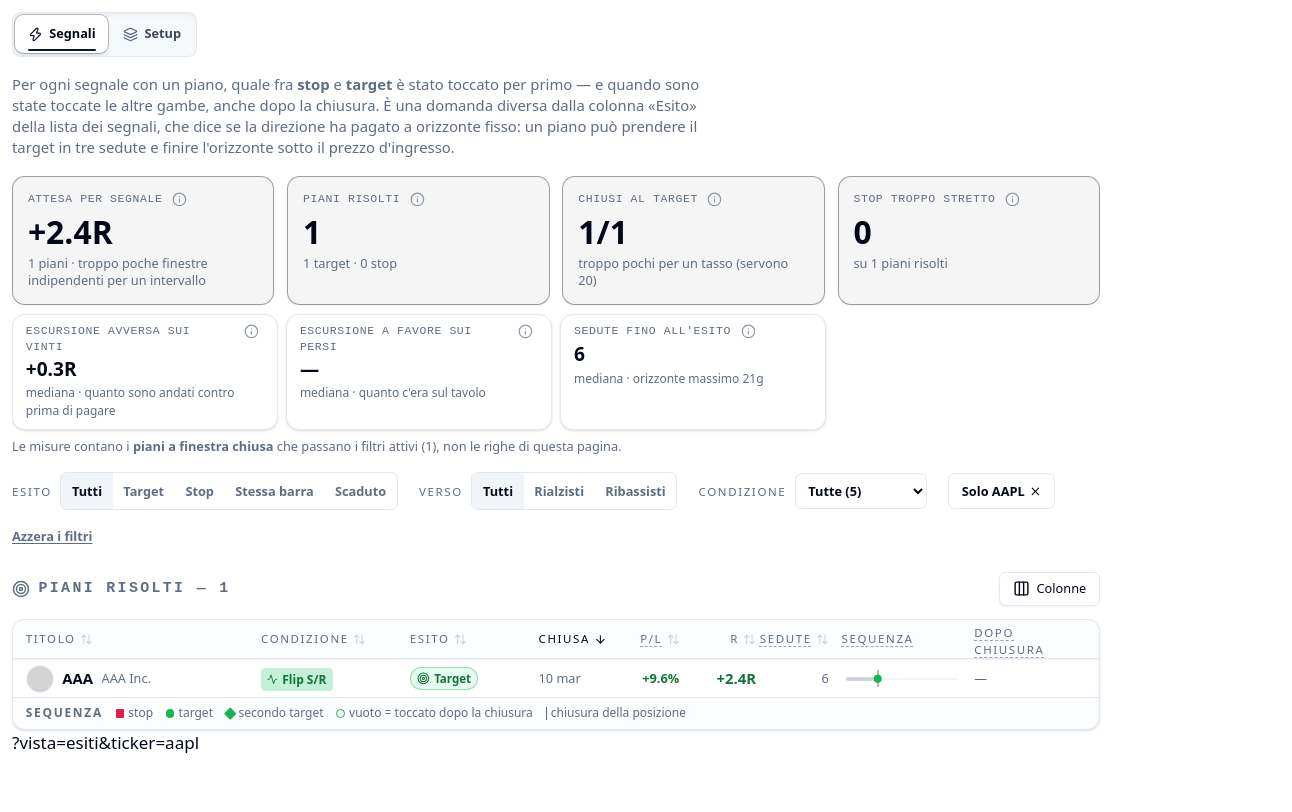
Test: OutcomesView — i controlli › ?ticker= si vede e si toglie
Click the button "Solo AAPL". click: (1002, 491)
box: [948,473,1055,509]
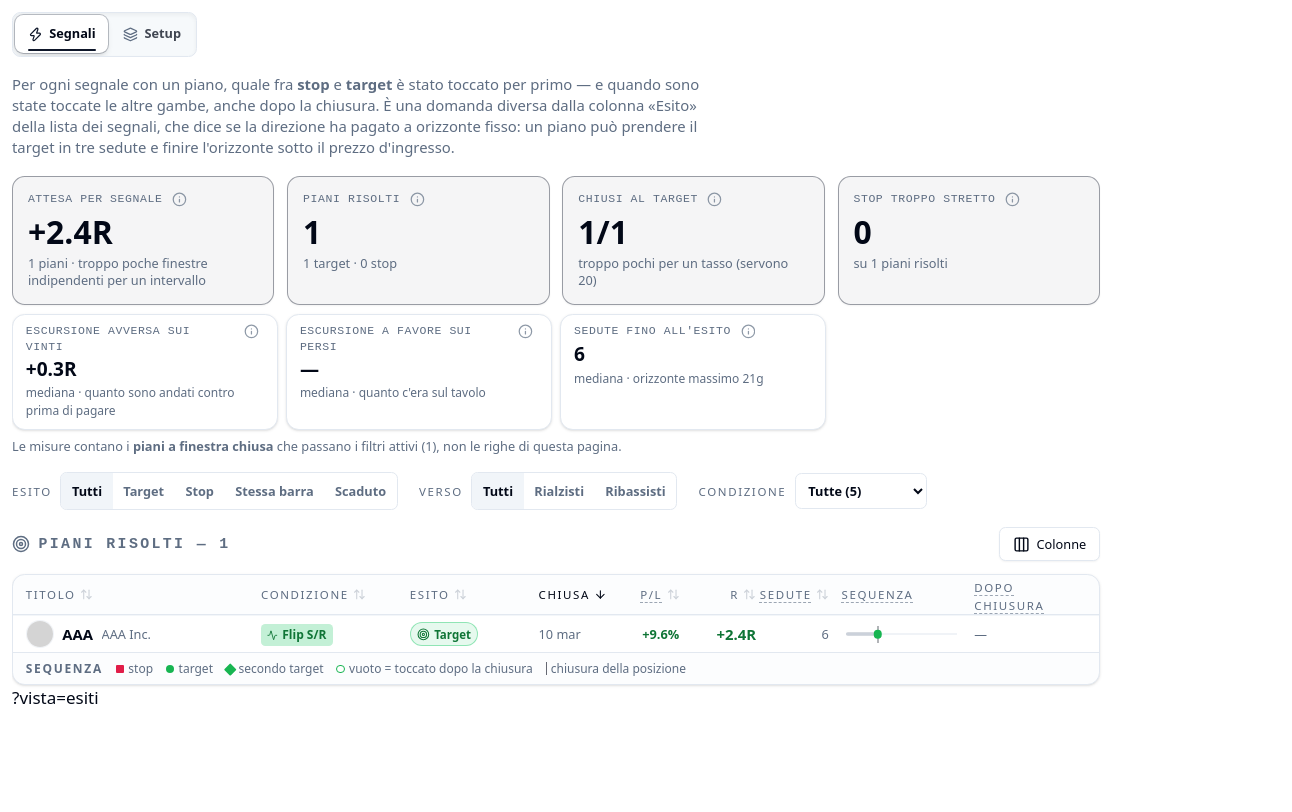
Expected: the text with test id "url" no longer shows "ticker", [12,686,99,709]
